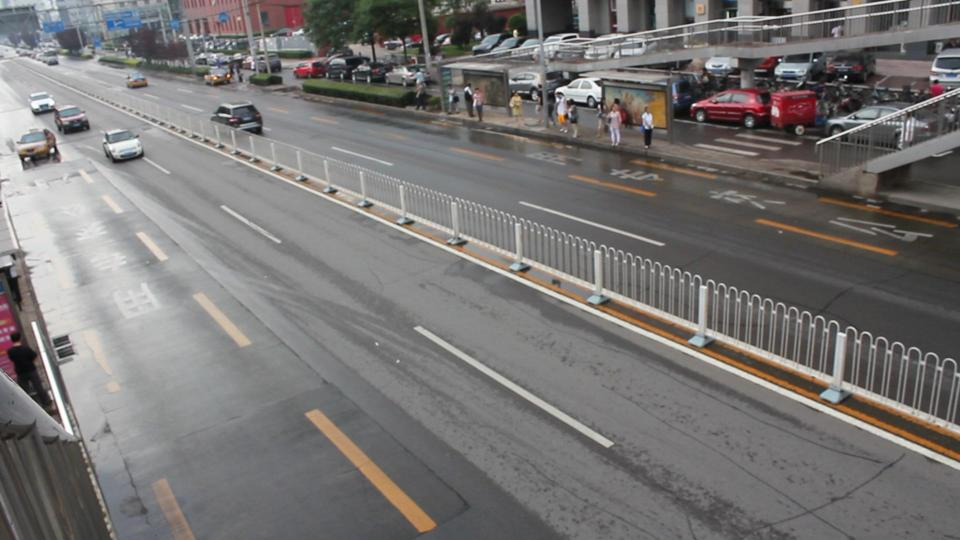bus: (929, 44, 960, 91)
car: (822, 105, 902, 135), (296, 55, 384, 78), (509, 71, 575, 99), (14, 127, 61, 165), (211, 102, 264, 134), (101, 128, 145, 163), (556, 78, 604, 107), (54, 105, 91, 134), (472, 33, 515, 54), (29, 91, 57, 115), (126, 71, 149, 88), (42, 53, 60, 66)
person: (5, 339, 41, 393), (605, 102, 626, 147), (556, 94, 578, 134), (640, 109, 655, 148), (469, 86, 486, 120), (508, 91, 525, 120), (928, 79, 945, 98)
truck: (692, 87, 832, 132)
